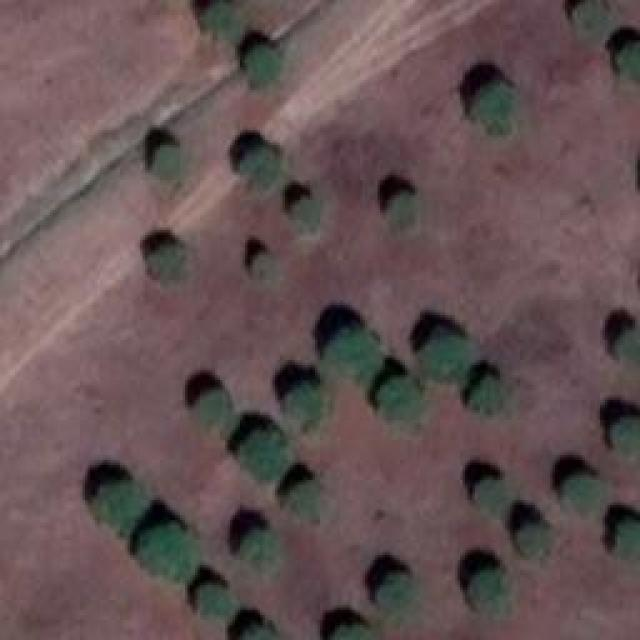Tree: (143, 525, 193, 580), (328, 330, 381, 378), (240, 430, 288, 480), (95, 480, 143, 528), (423, 335, 468, 378), (475, 85, 515, 130), (473, 570, 508, 615), (573, 0, 613, 38), (197, 390, 235, 430), (382, 380, 420, 418), (203, 0, 238, 38), (565, 475, 603, 510), (287, 388, 325, 423), (197, 585, 235, 618), (380, 575, 415, 610), (243, 148, 278, 183), (248, 45, 278, 83), (287, 480, 315, 520), (150, 245, 183, 278), (150, 145, 180, 178), (615, 522, 640, 560), (520, 525, 548, 558), (245, 530, 273, 563), (475, 378, 500, 413), (475, 482, 505, 510), (615, 420, 640, 453), (333, 622, 376, 640), (615, 330, 640, 358), (390, 195, 413, 220), (295, 200, 318, 225), (238, 625, 276, 640), (620, 47, 640, 75), (252, 255, 270, 273)
